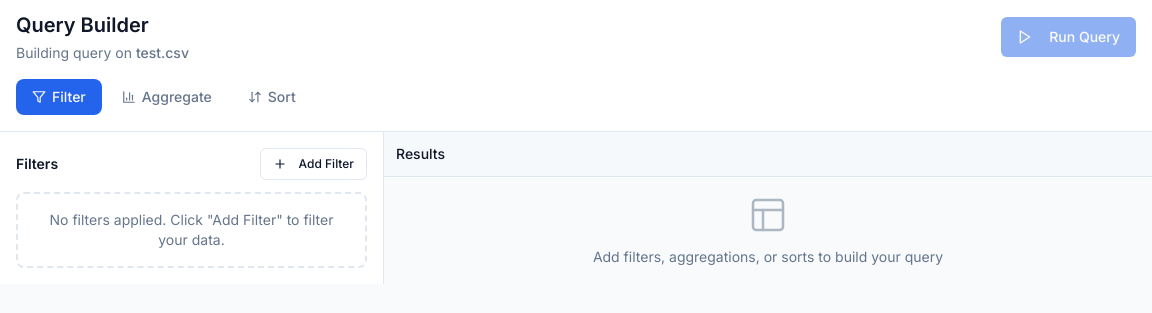
QueryBuilder › Run Query Button › should be enabled when filters are added
The image size is (1152, 313).
# Add a filter
Click the button "Add Filter".
click(313, 164)  # box [260,148,367,180]
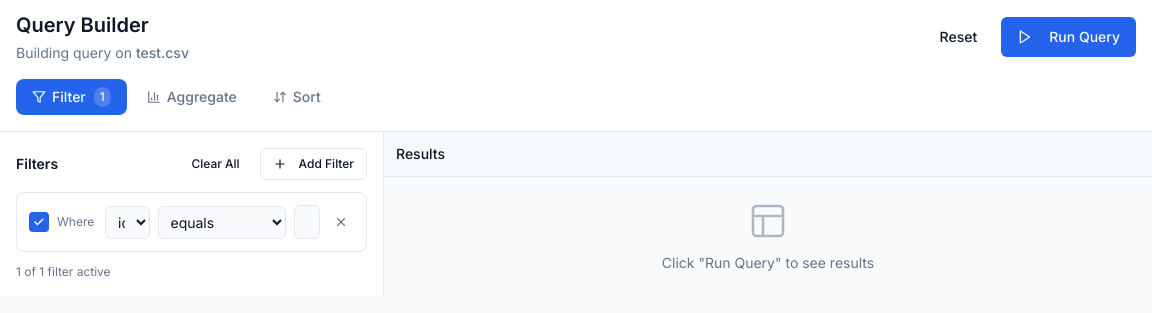
Expected: the button "Run Query" is enabled, [1001,17,1136,57]
